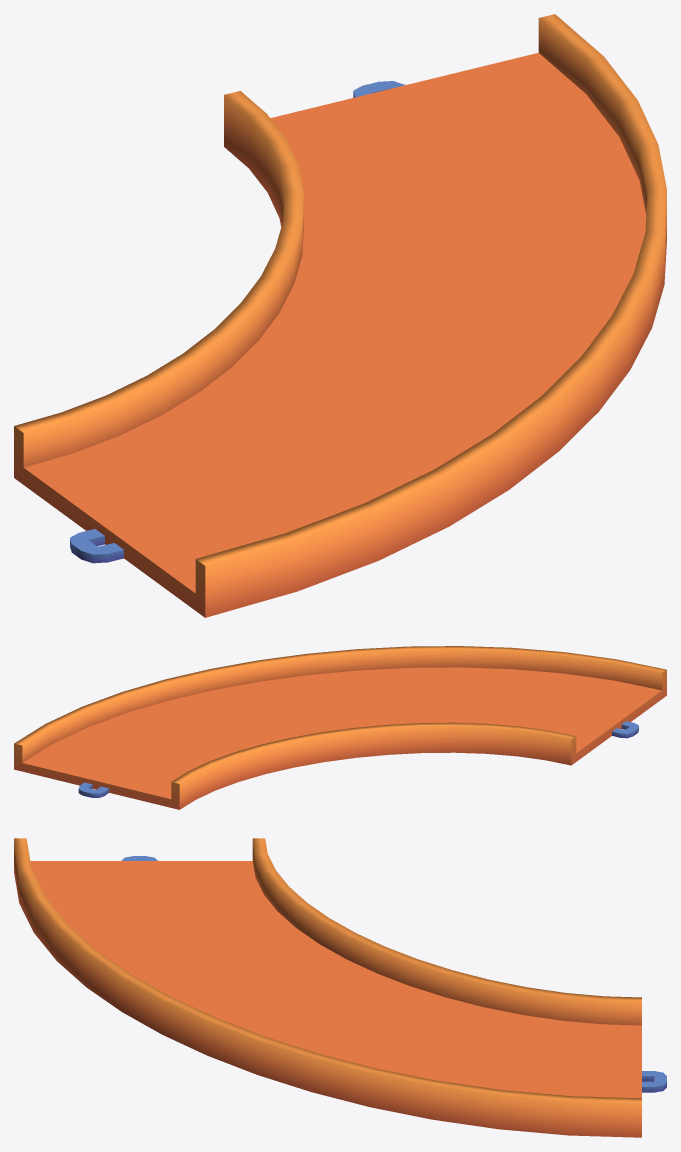
Rendered from track-wide-corner-large.glb.
3 renders of one model, top to bottom at view 1: azimuth 30°, elevation 25°; view 2: azimuth 150°, elevation 25°; view 3: azimuth 270°, elevation 25°, orthographic. The views are drawn at different scales.
Visible parts, largest first — view 1: track-wide-corner-large; view 2: track-wide-corner-large; view 3: track-wide-corner-large.
Boxes of the visible parts, x1,y1,x2,y2 form: track-wide-corner-large: (14, 14, 666, 617); track-wide-corner-large: (14, 646, 666, 809); track-wide-corner-large: (14, 838, 666, 1137).
Bounding box in the file's own units: 15.6 × 0.9 × 15.6.
1 material, 1 textured.
